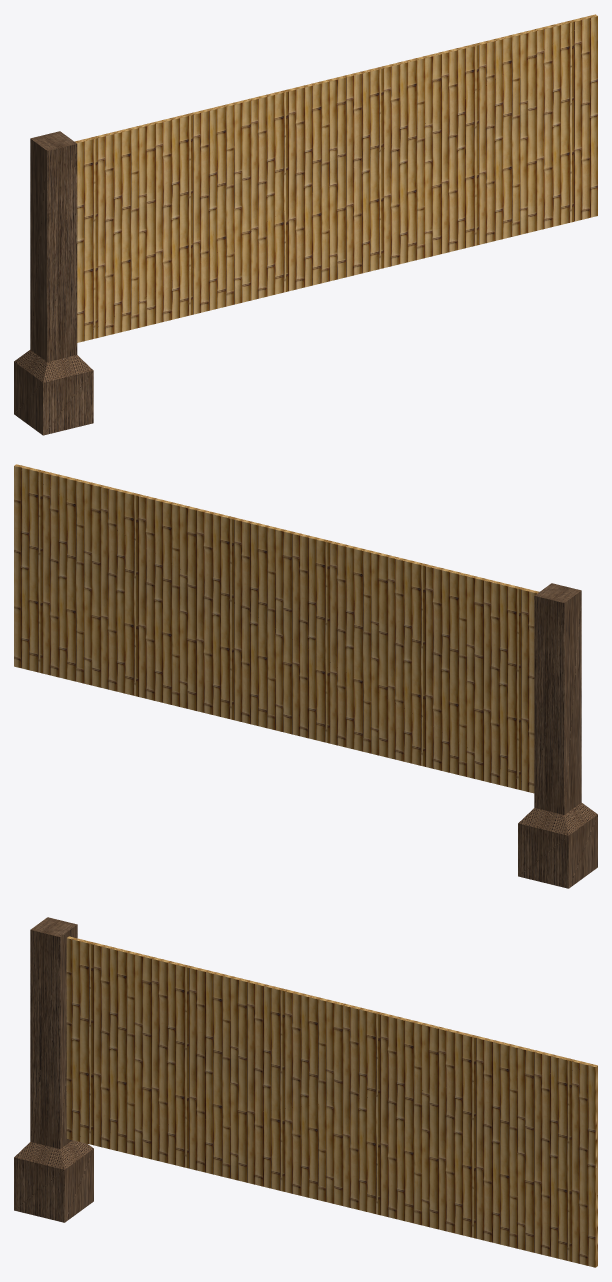
Rendered from pol_stenu.FBX.
The picture shows the model from 3 angles, top to bottom: view 1: azimuth 30°, elevation 25°; view 2: azimuth 150°, elevation 25°; view 3: azimuth 330°, elevation 25°; orthographic projection.
Parts seen in each view (by area): view 1: Box002, Box001; view 2: Box002, Box001; view 3: Box002, Box001.
Part boxes in pixels (x1,y1,x2,y2): Box002: (74, 14, 597, 342); Box001: (14, 131, 93, 435); Box002: (14, 464, 539, 793); Box001: (518, 583, 597, 888); Box002: (66, 936, 597, 1267); Box001: (14, 917, 93, 1222).
Size of the model in its own units: 112 by 52.6 by 10.
3 materials, 3 textured.
